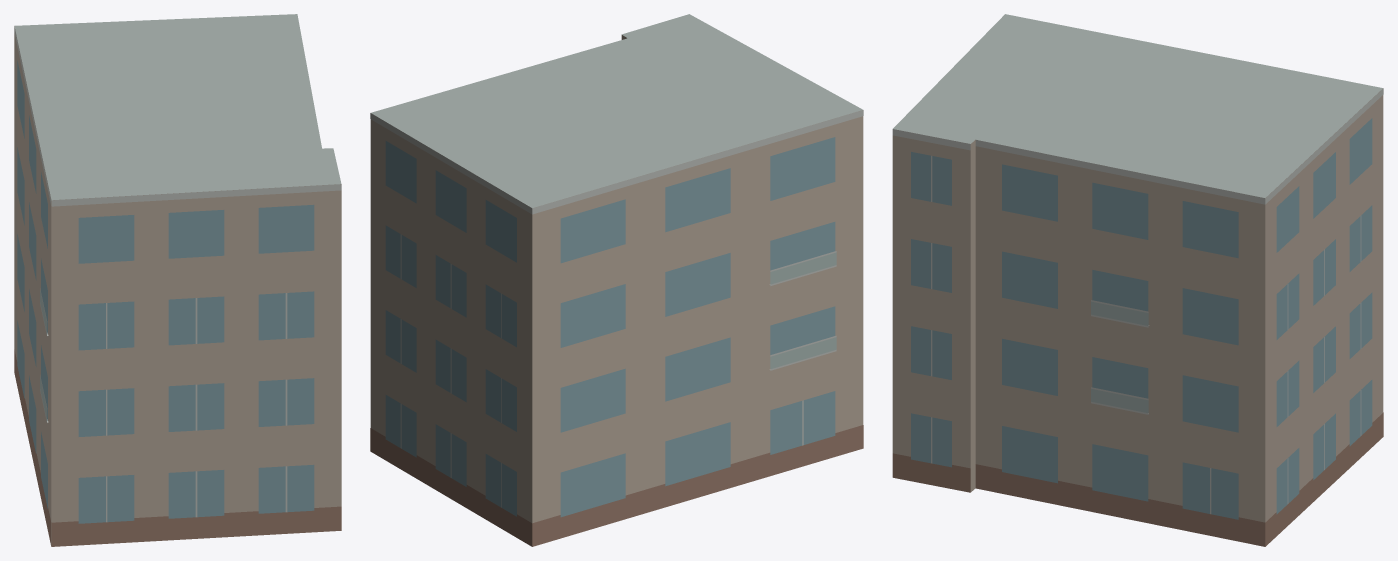
File: survey-upis-32703321.glb
3 renders of one model, left to right at view 1: azimuth 30°, elevation 25°; view 2: azimuth 150°, elevation 25°; view 3: azimuth 270°, elevation 25°, orthographic. The views are drawn at different scales.
Parts seen in each view (by area): view 1: survey-upis-32703321.tmp; view 2: survey-upis-32703321.tmp; view 3: survey-upis-32703321.tmp.
Part boxes in pixels (x1,y1,x2,y2): survey-upis-32703321.tmp: [14, 14, 341, 546]; survey-upis-32703321.tmp: [370, 14, 863, 546]; survey-upis-32703321.tmp: [892, 14, 1383, 546].
Size of the model in its own units: 14.93 by 13.17 by 16.81.
